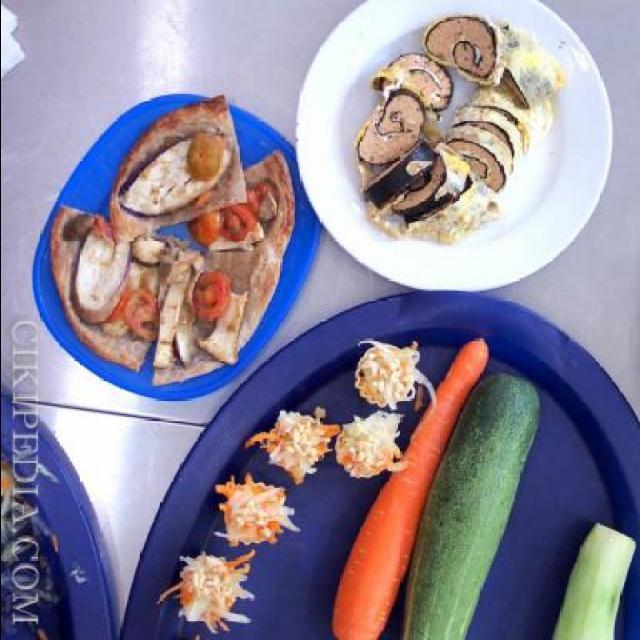Zucchini: (380, 390, 556, 632)
